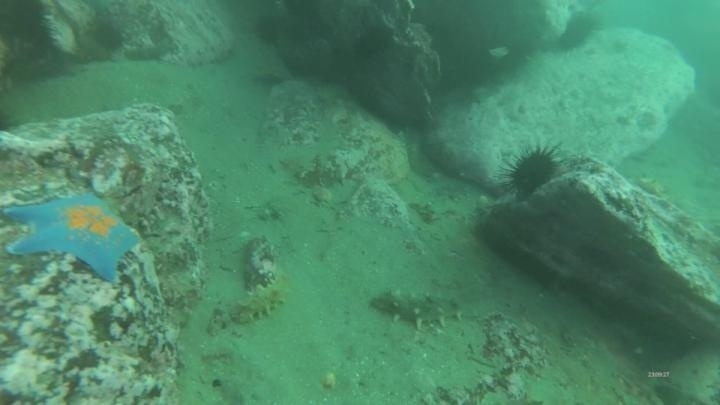echinus: (501, 142, 563, 199), (557, 10, 600, 53), (90, 20, 126, 54), (252, 13, 286, 47)
holothurian: (368, 284, 478, 332), (230, 271, 294, 326)
starfish: (1, 184, 143, 285)
